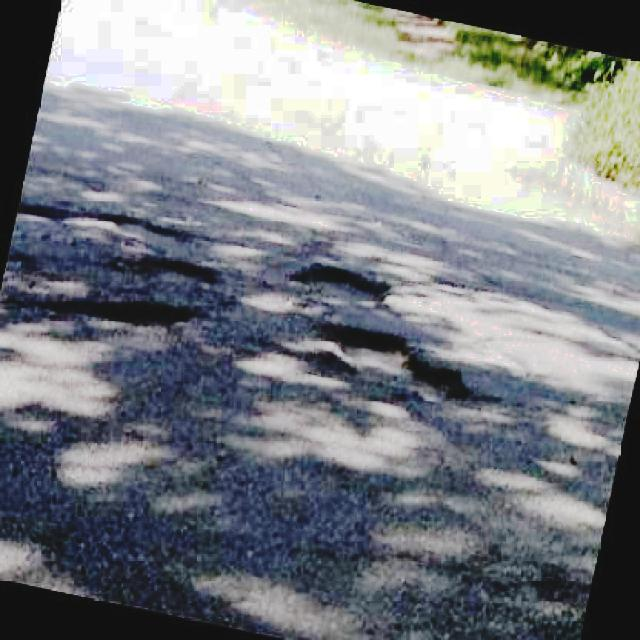pothole: (323, 316, 477, 410), (0, 295, 217, 357), (12, 203, 212, 254), (291, 255, 395, 311), (128, 257, 225, 295)
